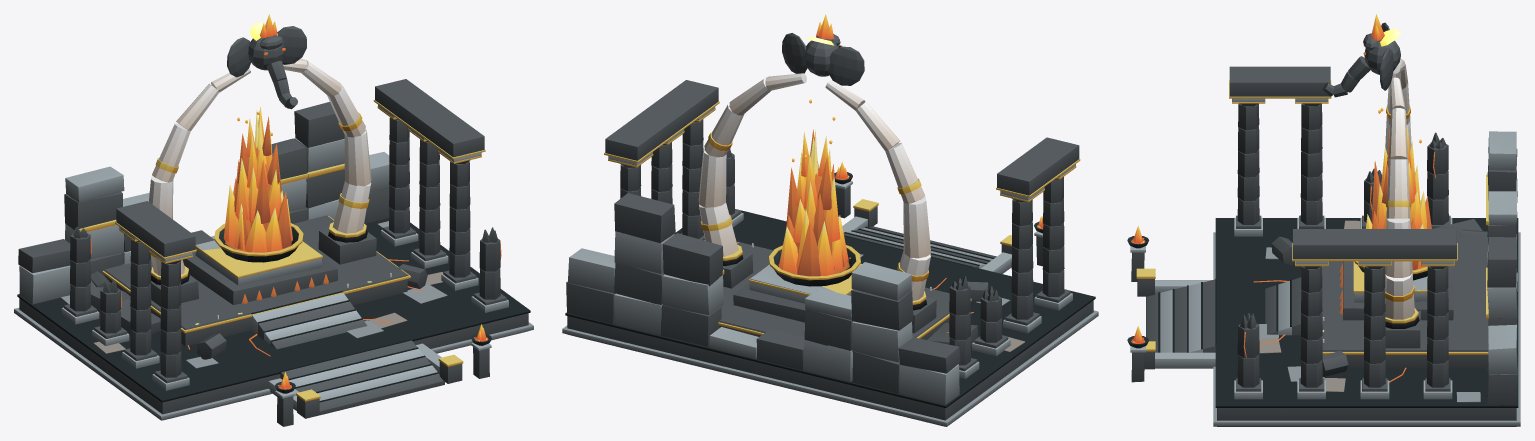
The model's file is eternal_forge.glb.
The picture shows the model from 3 angles, left to right: view 1: azimuth 30°, elevation 25°; view 2: azimuth 150°, elevation 25°; view 3: azimuth 270°, elevation 25°; orthographic projection. The views are drawn at different scales.
Parts seen in each view (by area): view 1: eternal_forge; view 2: eternal_forge; view 3: eternal_forge.
Part boxes in pixels (box(x1,y1,x2,y2)): eternal_forge: box(14, 14, 533, 426); eternal_forge: box(562, 14, 1098, 426); eternal_forge: box(1127, 14, 1520, 426).
Size of the model in its own units: 28.5 by 22.37 by 24.95.
15 materials, 15 textured.
